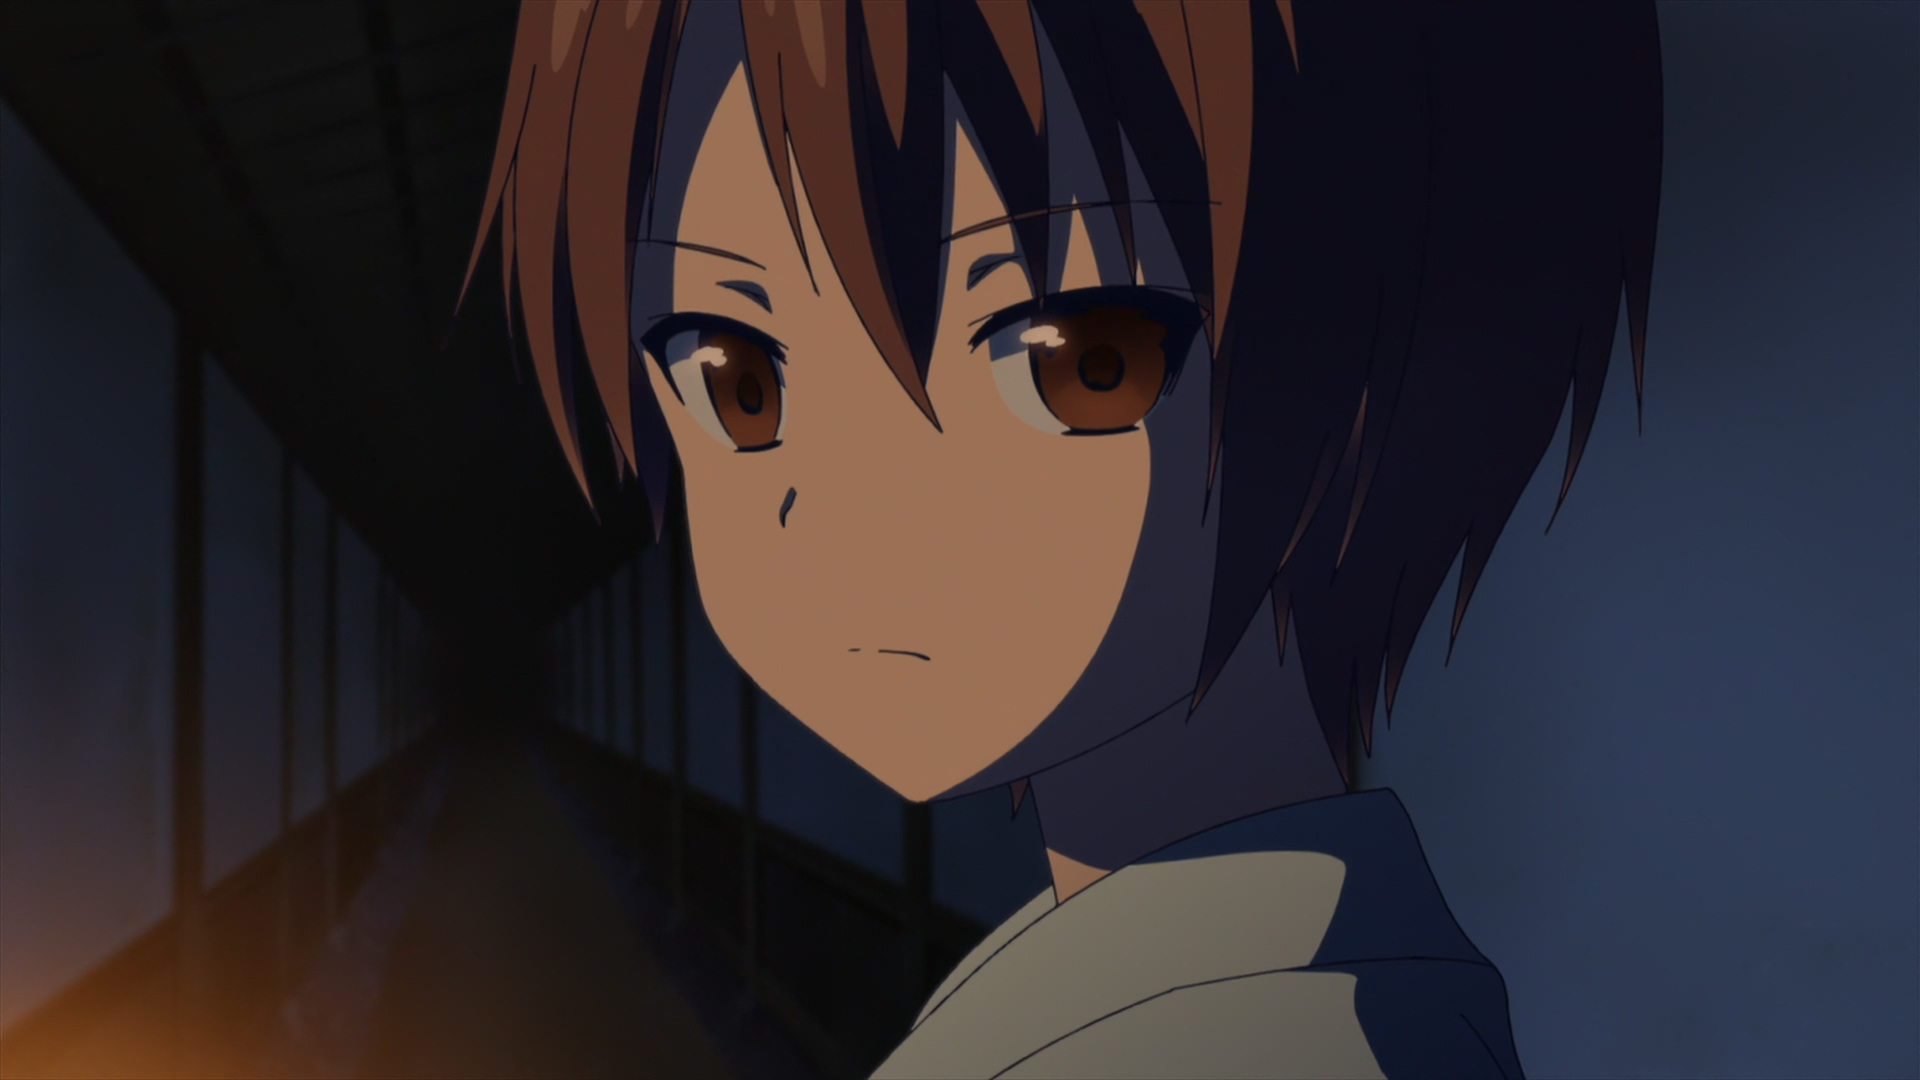枣: (452, 1, 1667, 1080)
